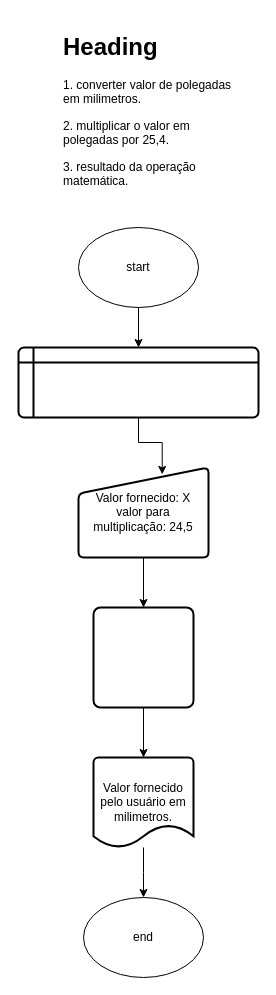
Some shapes in this 276 by 995 pixel diagram are drawn without their labels. The centre of each missing label's shape, as x and y in pixels:
captação de valores fornececido pelo usuário em polegadas.: point 138,382
X * 24,5: point 143,657
